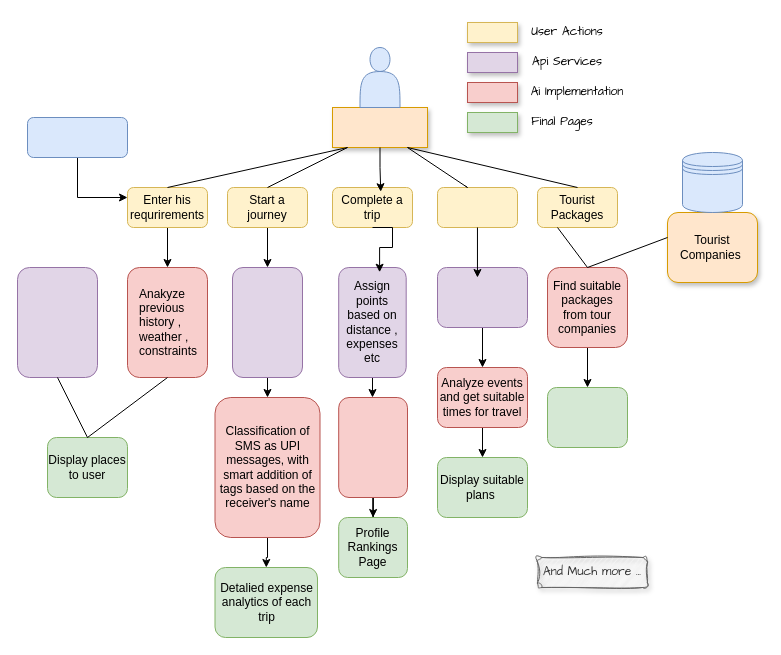
Some shapes in this 781 by 655 pixel diagram are drawn without their labels. The centre of each missing label's shape, as x and y in pixels:
Assign badges based on points using Ai: (373,447)
Connect to google calender: (477,207)
Display to user: (587,417)
Get incomming SMS from his mobile app: (267,322)
Get places and ratings, crowd levels from google places Api: (57,322)
Get User Events using api: (482,297)
User: (381,128)
Voice + Text: (77,137)
